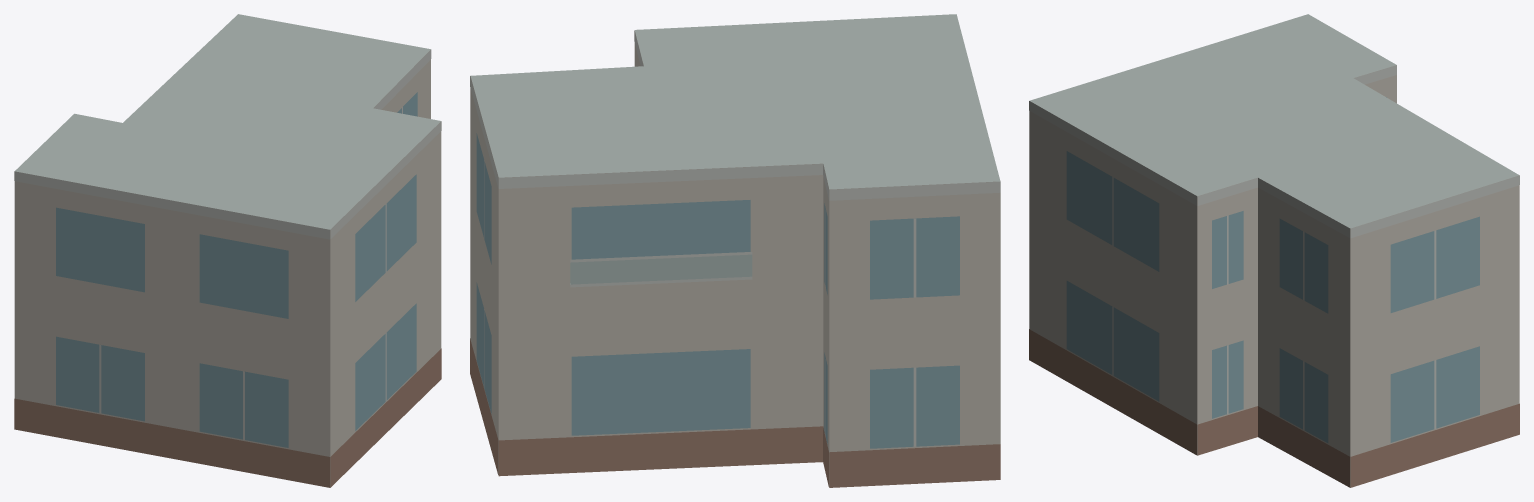
Rendered from survey-upis-32598526.glb.
The picture shows the model from 3 angles, left to right: view 1: azimuth 30°, elevation 25°; view 2: azimuth 150°, elevation 25°; view 3: azimuth 270°, elevation 25°; orthographic projection. The views are drawn at different scales.
Visible parts, largest first — view 1: survey-upis-32598526.tmp; view 2: survey-upis-32598526.tmp; view 3: survey-upis-32598526.tmp.
Boxes of the visible parts, bbox=[...] form: survey-upis-32598526.tmp: bbox=[14, 14, 441, 487]; survey-upis-32598526.tmp: bbox=[470, 14, 1000, 487]; survey-upis-32598526.tmp: bbox=[1029, 14, 1519, 487].
Size of the model in its own units: 11.36 by 6.4 by 10.98.
